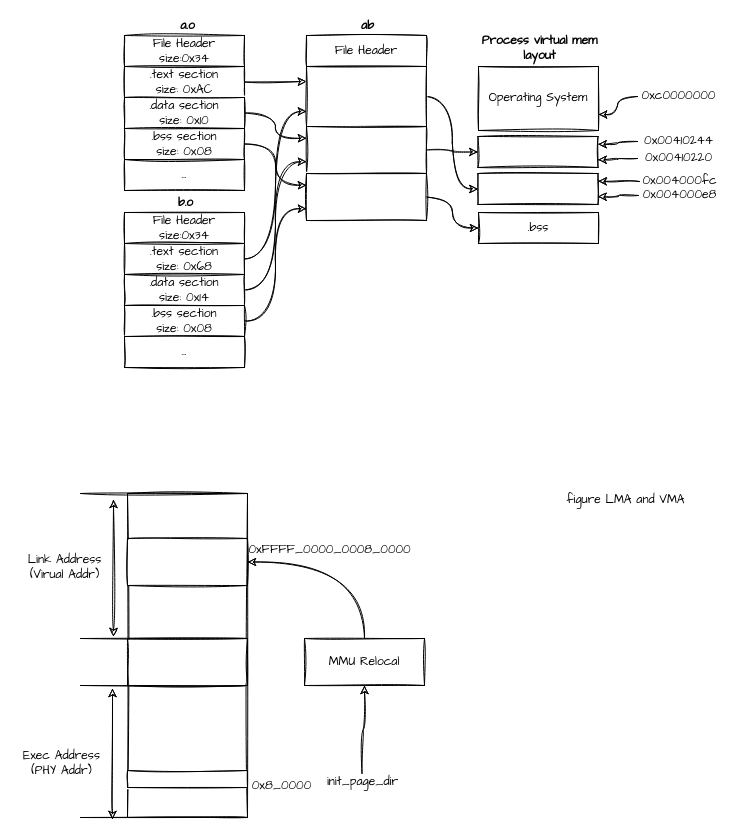
The diagram is 737 pixels wide and 836 high, and some of its shapes have lost their labels. Each missing label, with the box of its shape:
.bss section size: 0x08 + 0x08≠ 0x14: (306, 172, 426, 220)
.data: (477, 136, 598, 168)
.data section size: 0x10 + 0x14 = 0x24: (306, 126, 426, 174)
.text: (477, 172, 598, 204)
.text section size: 0xAC + 0x68 = 0x114: (306, 66, 426, 126)
LMA: (126, 770, 248, 788)
VMA: (126, 538, 248, 586)
